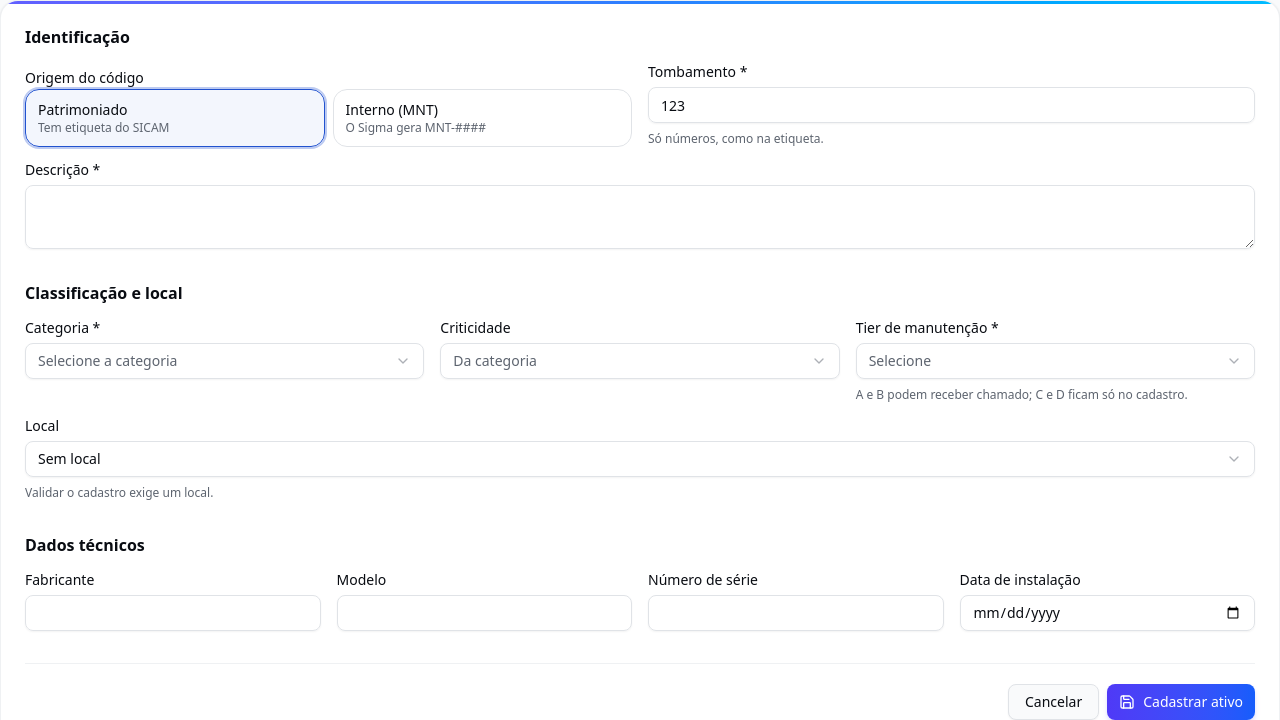
Test case: FormAtivo · cadastro › mostra o erro do servidor, como o código repetido (AC-5)
Click the button "Cadastrar ativo": point(1181, 702) [1107,684,1255,719]
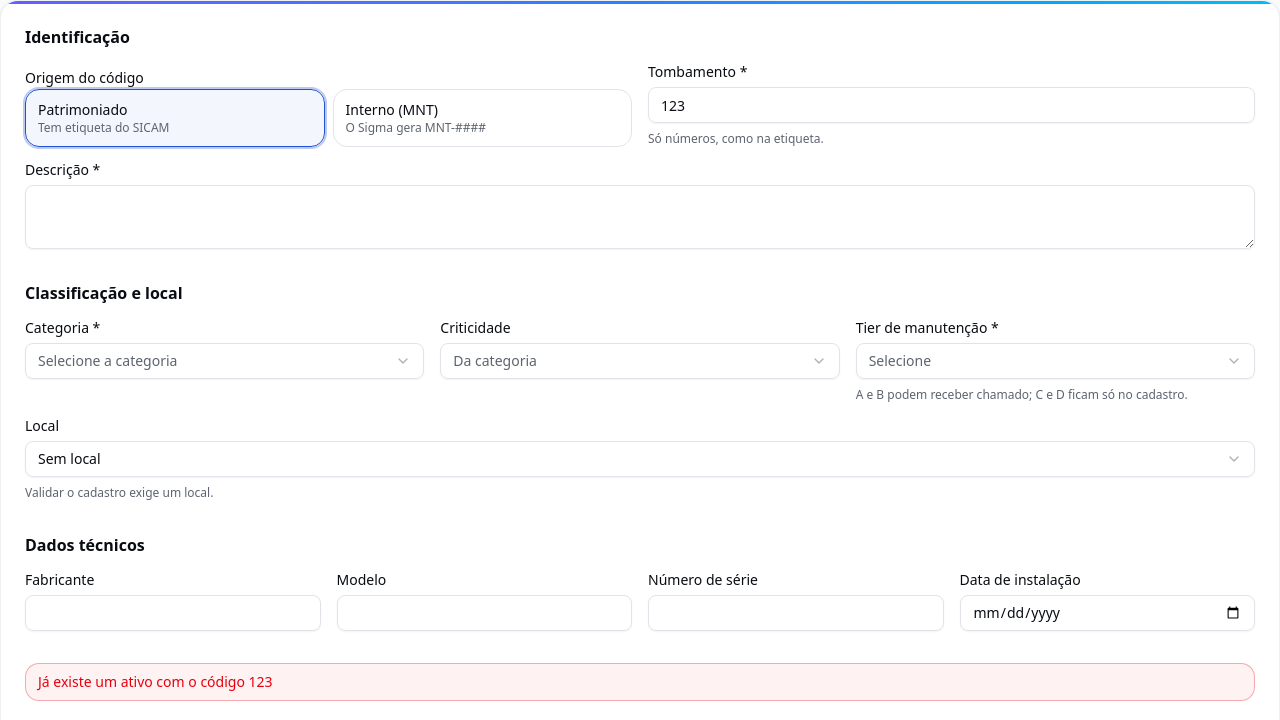
Expected: the message reads "Já existe um ativo com o código 123", [38,672,273,691]
